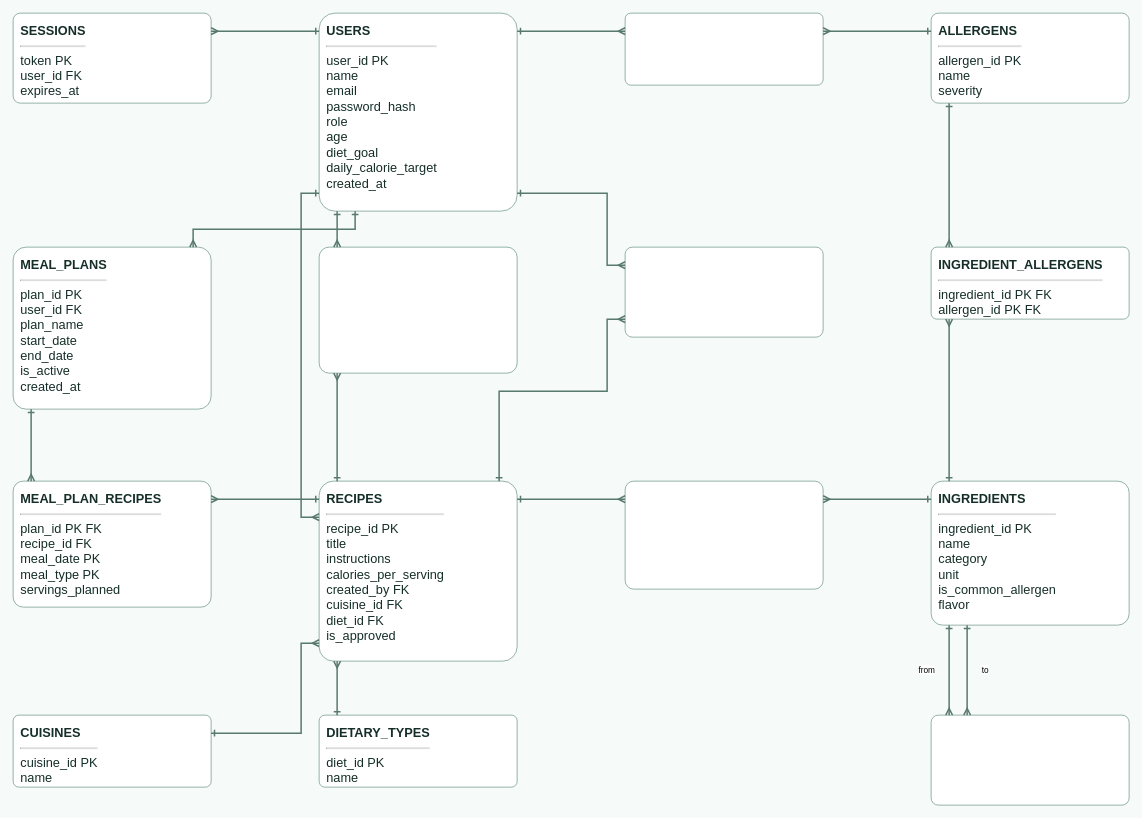
Some shapes in this 1142 by 818 pixel diagram are drawn without their labels. Each missing label, with the box of its shape:
FAVORITES user_id PK FK recipe_id PK FK saved_at: (624, 246, 823, 337)
RATINGS user_id PK FK recipe_id PK FK rating_value review_text created_at: (318, 246, 517, 373)
RECIPE_INGREDIENTS recipe_id PK FK ingredient_id PK FK quantity unit: (624, 480, 823, 589)
SUBSTITUTIONS ingredient_id_from PK FK ingredient_id_to PK FK similarity_score: (930, 714, 1129, 805)
USER_ALLERGENS user_id PK FK allergen_id PK FK: (624, 12, 823, 85)
